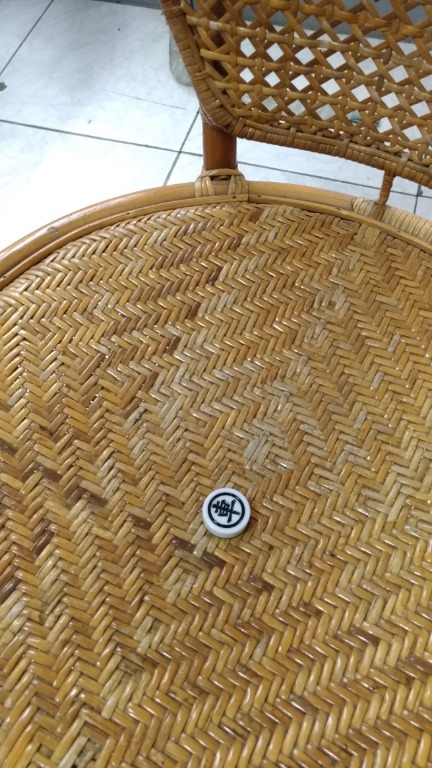b-king: (187, 477, 282, 568)
